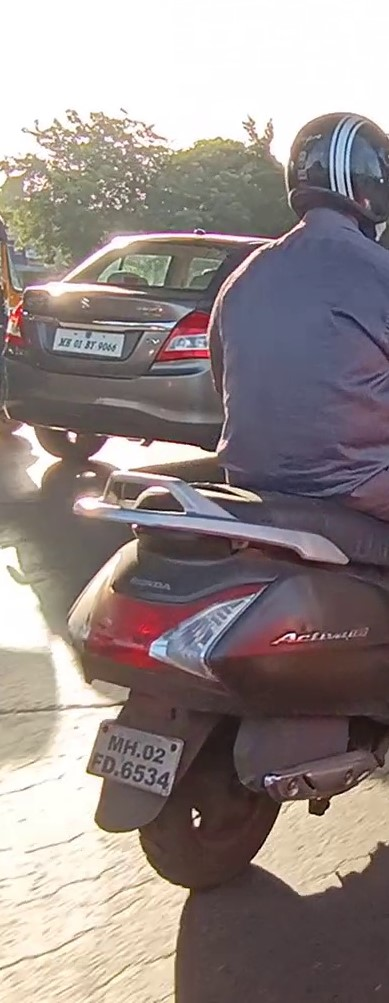MH02FD6534: (80, 719, 184, 798)
